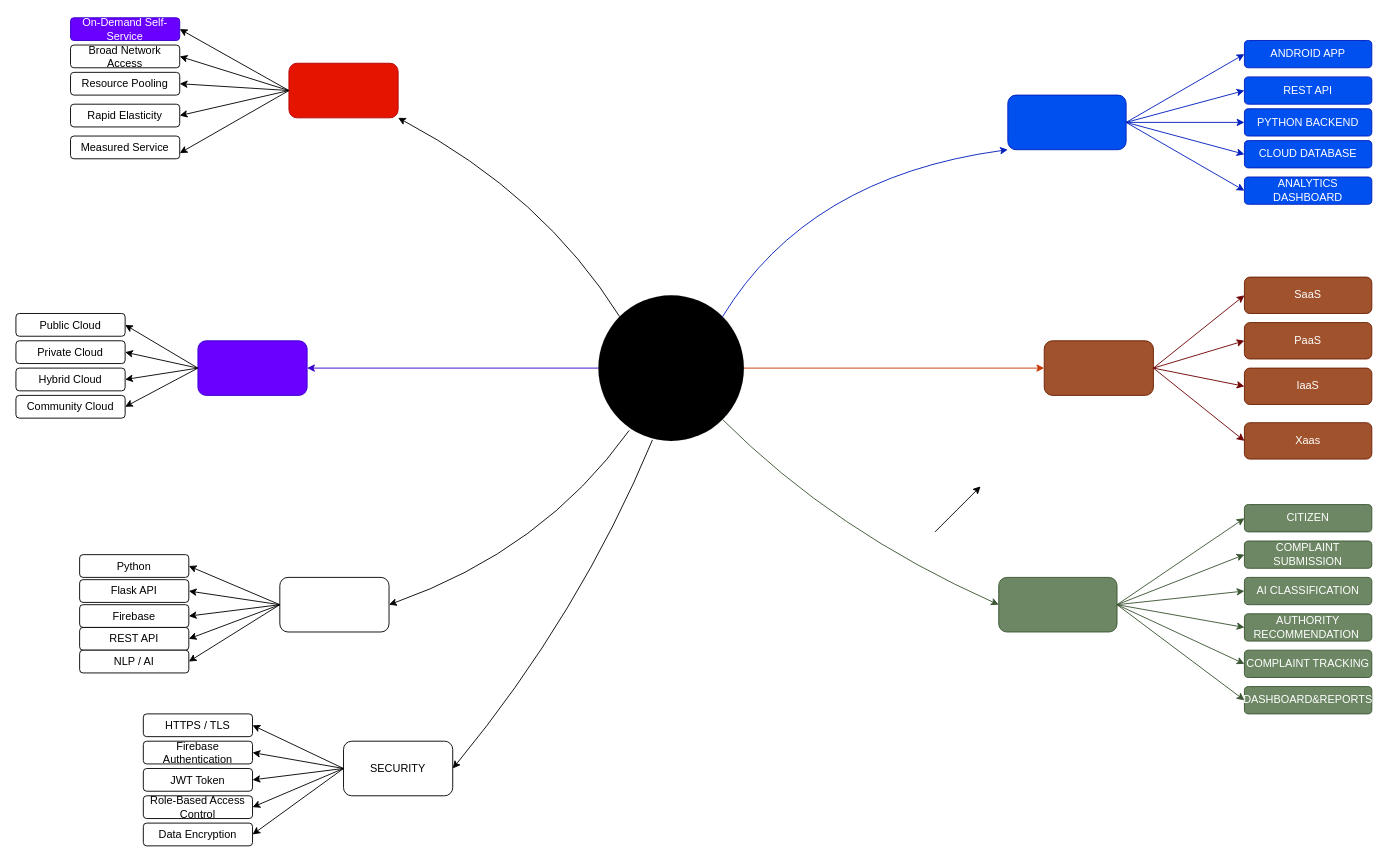
Some shapes in this 1389 by 862 pixel diagram are drawn without their labels. Each missing label, with the centre of its shape:
"CAPSTONE APPLICATION FLOW" goes at point 1057,604.
"CLOUD ARCHITECTURE" goes at point 1066,122.
"CLOUD COMPUTING CHARACTERISTICS" goes at point 343,90.
"CORE TECHNOLOGIES" goes at point 334,604.
"DEVOLPMENT MODELS" goes at point 252,367.
"LEGALAID AI CITIZEN COMPLAINT CLASSIFICATION AND GUIDANCE APP" goes at point 670,367.
"SERVICE MODELS" goes at point 1098,367.
